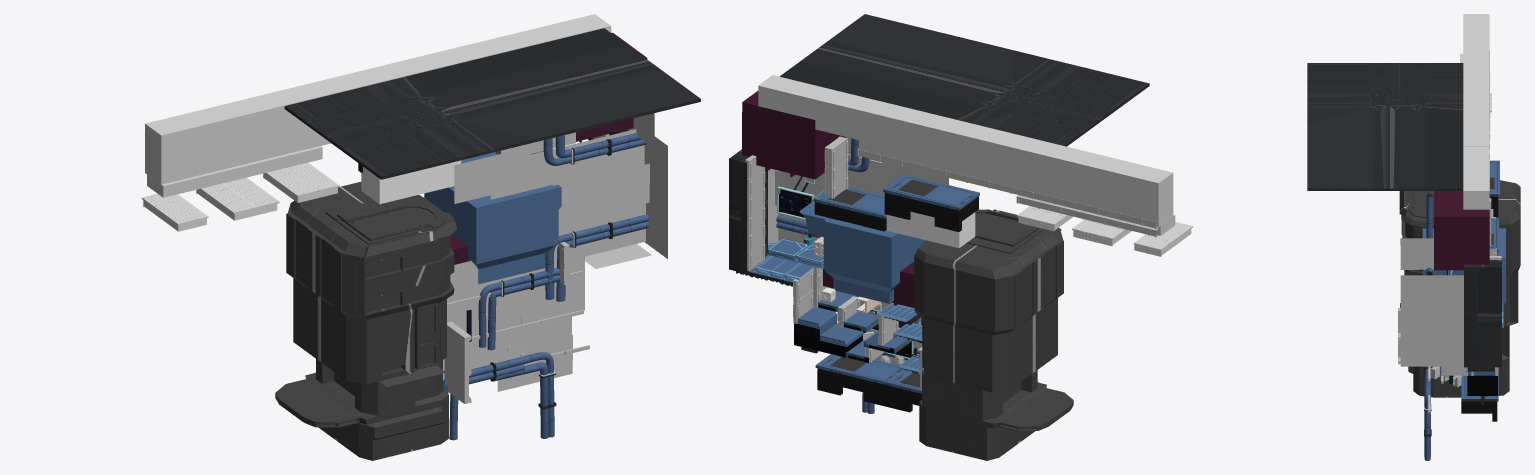
The model's file is LabALL.fbx.
3 views of the same model, side by side, from view 1: azimuth 30°, elevation 25°; view 2: azimuth 150°, elevation 25°; view 3: azimuth 270°, elevation 25° (orthographic). The views are drawn at different scales.
Parts seen in each view (by area): view 1: Cube_263, Cube_1, Cube__6__001, platformLAB9, wall7__10_, Cube__46_, wall7__11_, Cube_001, Cube_4279, Cube__45_, wall7__12_, Cube_4275 (+27 smaller); view 2: Cube_263, Cube_1, Cube__6__001, lab, platformLAB9, Cube_011_001__1_, Cube__45_, Cube_4250, Cube, platformLAB11, Cube_001, Cube_4415 (+11 smaller); view 3: Cube_1, Cube_263, Cube, Cube_011_001__1_, Cube__6__001, wall7__14_, wall7__15_, wall7__16_, Cube__45_, lab, wall7__17_, platformLAB11 (+4 smaller).
Part boxes in pixels (x1,y1,x2,y2): Cube_263: (275,182,457,460); Cube_1: (284,28,700,179); Cube__6__001: (145,41,497,184); platformLAB9: (424,185,561,284); wall7__10_: (577,163,649,219); Cube__46_: (147,146,322,197); wall7__11_: (496,299,571,352); Cube_001: (361,160,461,204); Cube_4279: (196,177,279,220); Cube__45_: (482,14,611,53); wall7__12_: (490,146,565,199); Cube_4275: (263,162,339,202); Cube_263: (914,209,1073,460); Cube_1: (780,14,1149,146); Cube__6__001: (859,99,1173,227); lab: (813,174,979,412); platformLAB9: (799,189,925,303); Cube_011_001__1_: (742,91,845,179); Cube__45_: (758,75,872,139); Cube_4250: (857,148,1158,237); Cube: (729,149,767,273); platformLAB11: (794,307,863,357); Cube_001: (886,211,975,248); Cube_4415: (1133,222,1193,256); Cube_1: (1307,63,1463,190); Cube_263: (1399,180,1520,397); Cube: (1464,259,1501,367); Cube_011_001__1_: (1434,191,1489,270); Cube__6__001: (1463,14,1489,146); wall7__14_: (1400,335,1463,366); wall7__15_: (1400,304,1463,335); wall7__16_: (1400,275,1463,306); Cube__45_: (1463,146,1489,209); lab: (1461,160,1499,421); wall7__17_: (1400,238,1433,269); platformLAB11: (1467,371,1498,395).
Size of the model in its own units: 21535 by 12657 by 8112.
